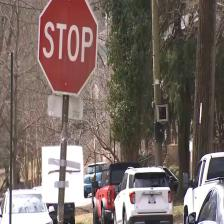Stop-sign: (36, 0, 100, 99)
